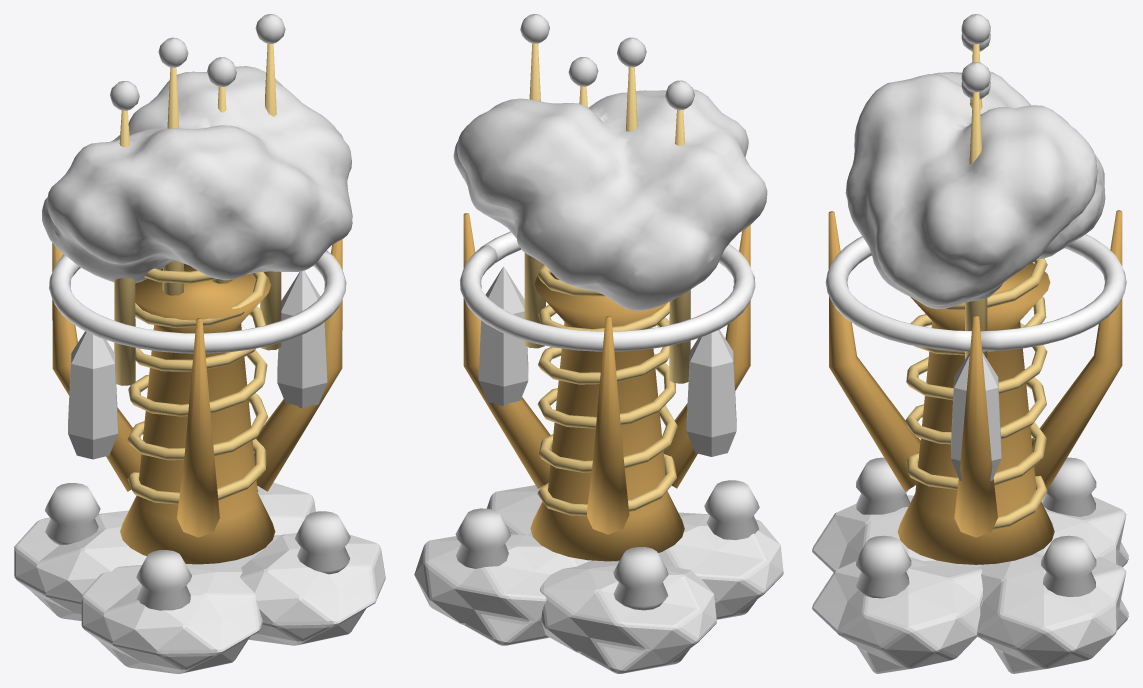
Rendered from thunder-4.fbx.
3 views of the same model, side by side, from view 1: azimuth 30°, elevation 25°; view 2: azimuth 150°, elevation 25°; view 3: azimuth 270°, elevation 25° (orthographic).
Parts seen in each view (by area): view 1: ContinuousStormCloud, Turret_Metal, Base_Stone, Turret_Glow, Base_Organic, ConductiveHalo; view 2: ContinuousStormCloud, Turret_Metal, Base_Stone, Turret_Glow, ConductiveHalo, Base_Organic; view 3: ContinuousStormCloud, Turret_Metal, Base_Stone, Base_Organic, ConductiveHalo, Turret_Glow.
Boxes of the visible parts, box(x1,y1,x2,y2) form: ContinuousStormCloud: box(42, 66, 352, 283); Turret_Metal: box(52, 43, 342, 564); Base_Stone: box(14, 482, 385, 673); Turret_Glow: box(68, 14, 327, 459); Base_Organic: box(45, 483, 350, 610); ConductiveHalo: box(49, 250, 346, 353); ContinuousStormCloud: box(453, 89, 767, 310); Turret_Metal: box(463, 43, 750, 561); Base_Stone: box(414, 485, 783, 673); Turret_Glow: box(478, 14, 736, 456); ConductiveHalo: box(460, 231, 755, 351); Base_Organic: box(455, 480, 759, 610); ContinuousStormCloud: box(845, 71, 1105, 309); Turret_Metal: box(828, 44, 1122, 564); Base_Stone: box(812, 495, 1128, 673); Base_Organic: box(856, 457, 1096, 598); ConductiveHalo: box(825, 234, 1126, 351); Turret_Glow: box(951, 14, 1001, 480).
Size of the model in its own units: 78.43 by 151 by 72.59.
